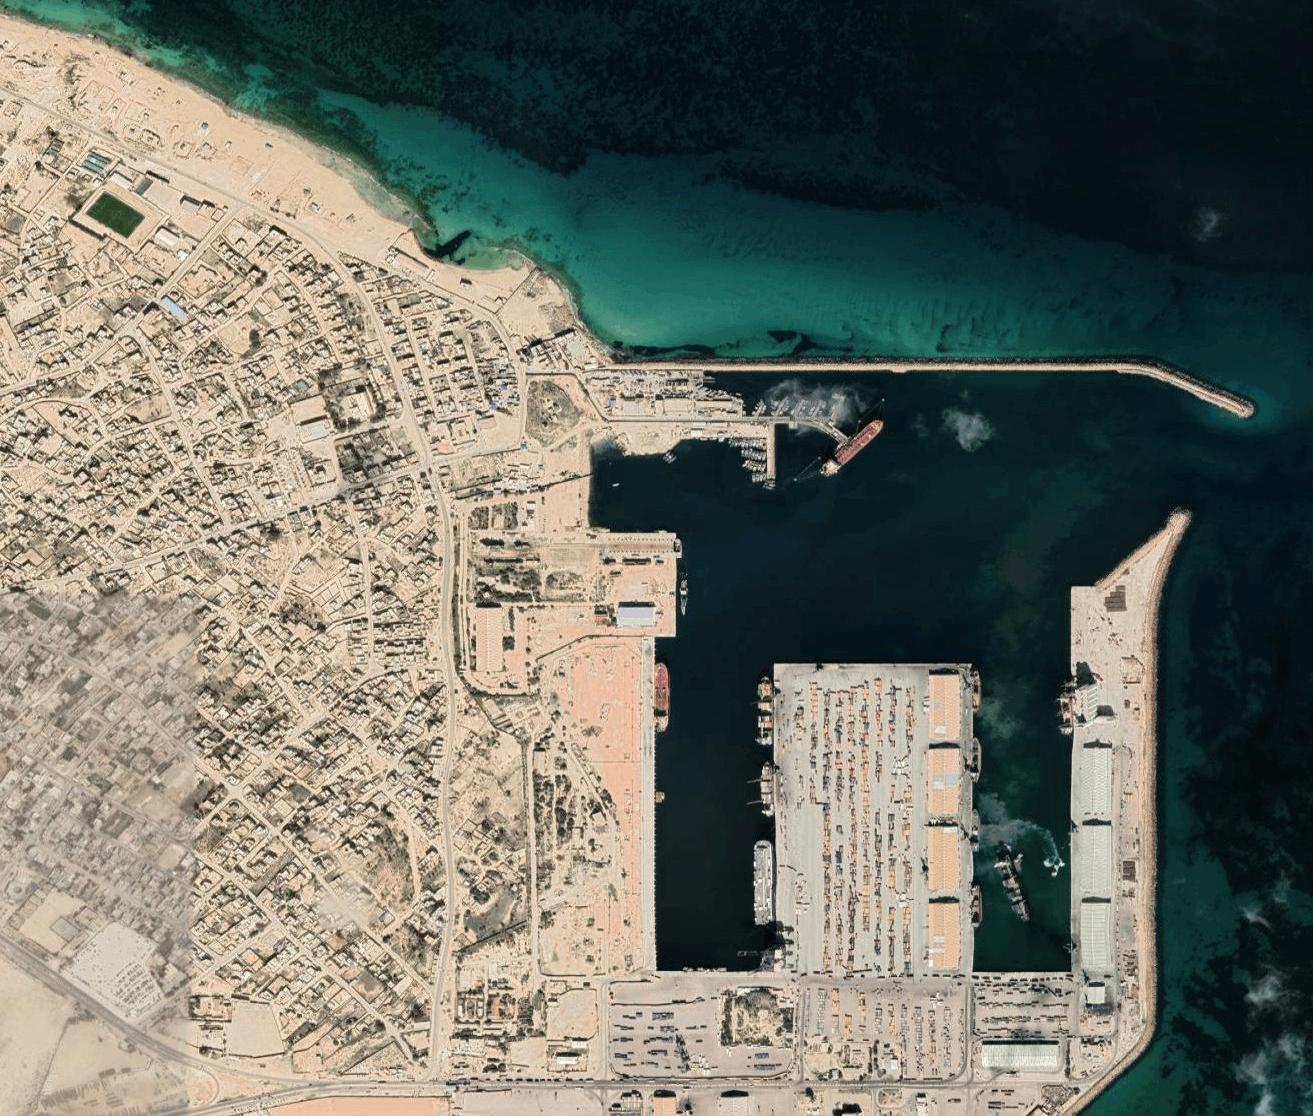harbor: (587, 322, 1270, 1116)
